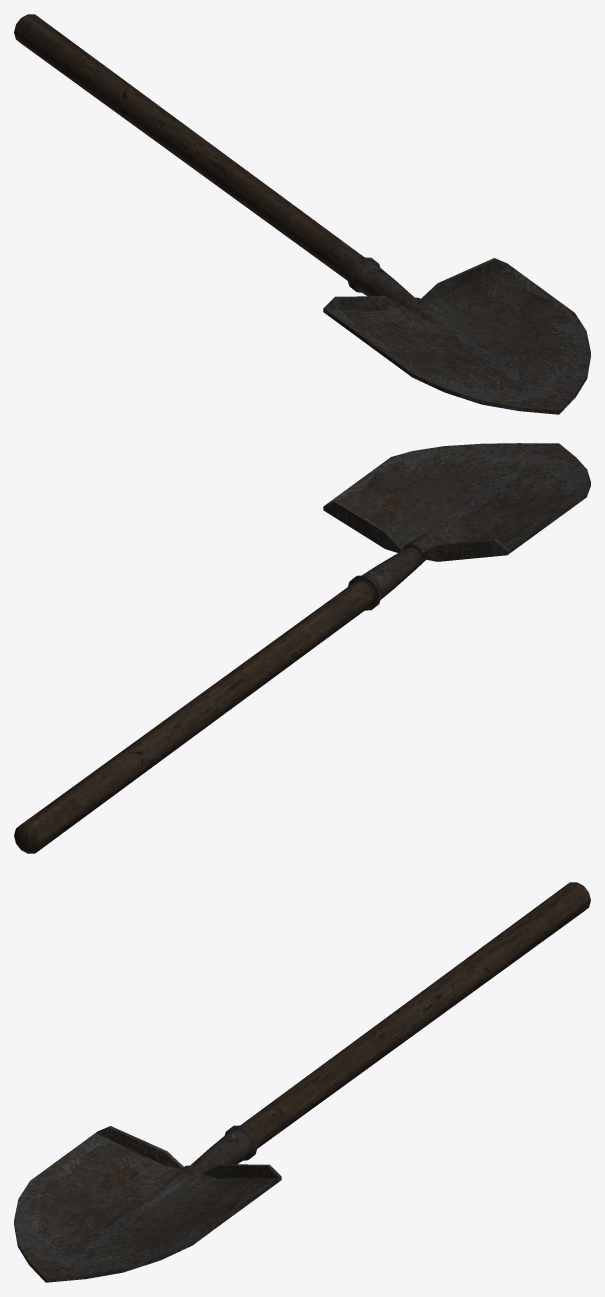
Rendered from shovel_mx_1.obj.
3 renders of one model, top to bottom at view 1: azimuth 30°, elevation 25°; view 2: azimuth 150°, elevation 25°; view 3: azimuth 330°, elevation 25°, orthographic.
Visible parts, largest first — view 1: shovel_mx_1; view 2: shovel_mx_1; view 3: shovel_mx_1.
Boxes of the visible parts, bbox=[...] form: shovel_mx_1: bbox=[14, 14, 590, 414]; shovel_mx_1: bbox=[14, 443, 590, 853]; shovel_mx_1: bbox=[14, 882, 590, 1282].
Bounding box in the file's own units: 0.39 × 0.1044 × 1.96.
